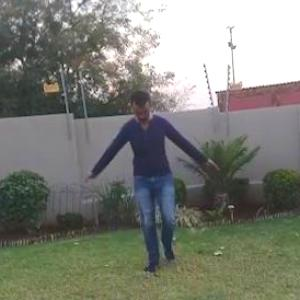land: (78, 83, 215, 288)
